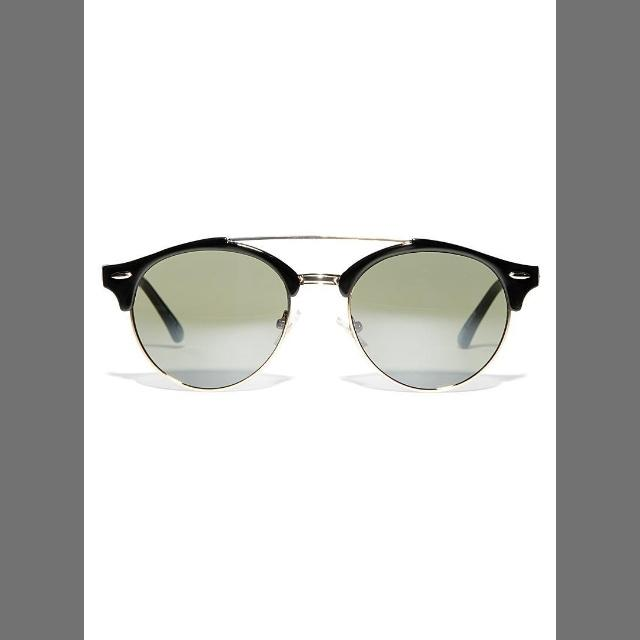Sunglasses: (99, 212, 557, 422)
